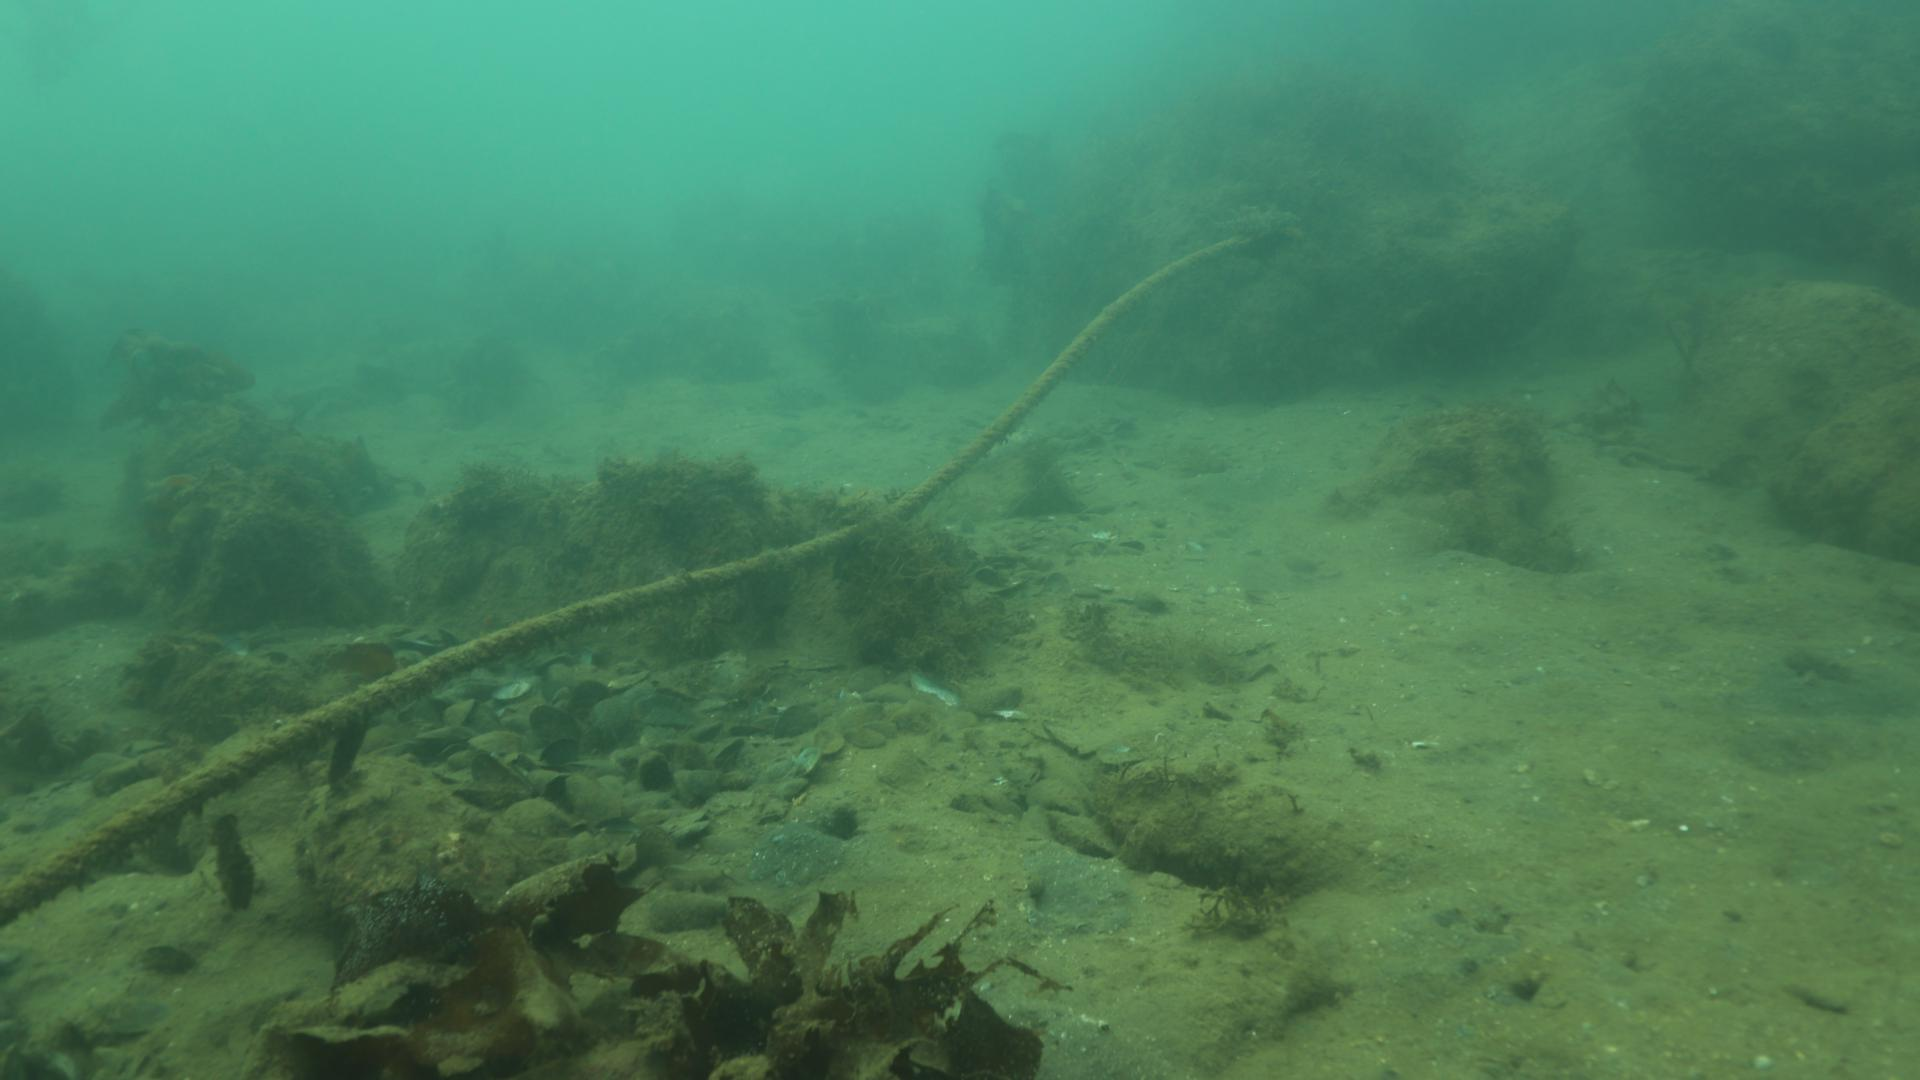rope: (0, 239, 1230, 926)
